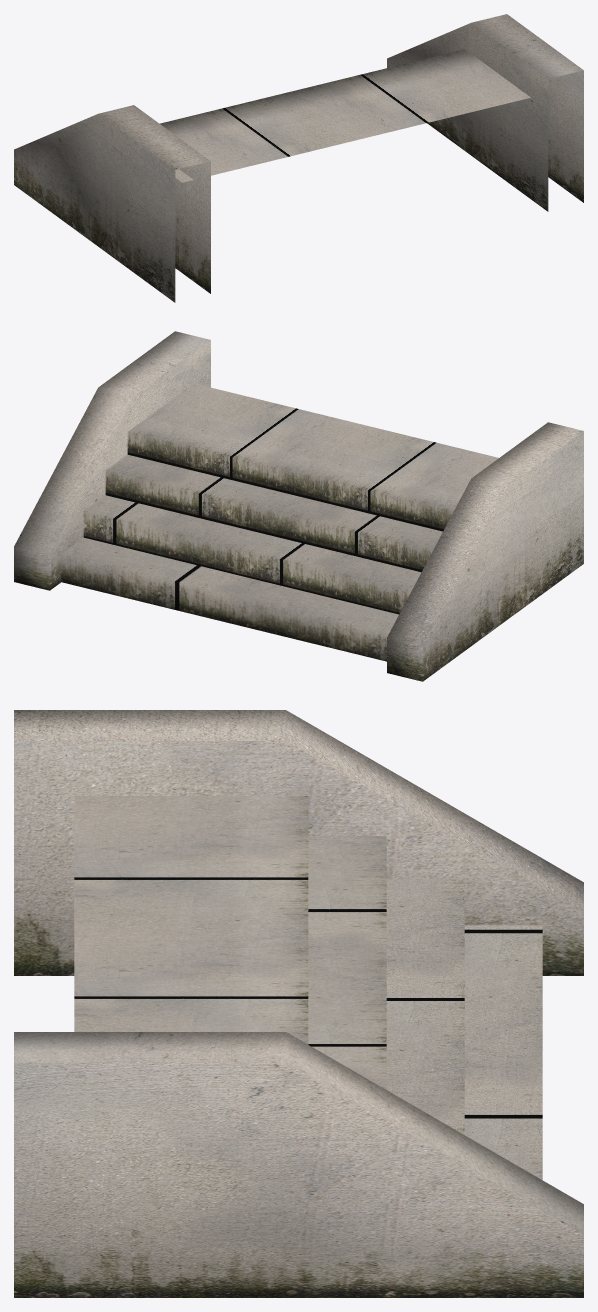
Rendered from Stairway entrance.obj.
3 views of the same model, one above another, from view 1: azimuth 30°, elevation 25°; view 2: azimuth 150°, elevation 25°; view 3: azimuth 270°, elevation 25° (orthographic). The views are drawn at different scales.
Visible parts, largest first — view 1: escada_Plane.004; view 2: escada_Plane.004; view 3: escada_Plane.004.
Boxes of the visible parts, box(x1,y1,x2,y2) form: escada_Plane.004: box(14, 14, 583, 302); escada_Plane.004: box(14, 331, 583, 681); escada_Plane.004: box(14, 710, 583, 1297).
Bounding box in the file's own units: 3.56 × 1.11 × 2.43.
